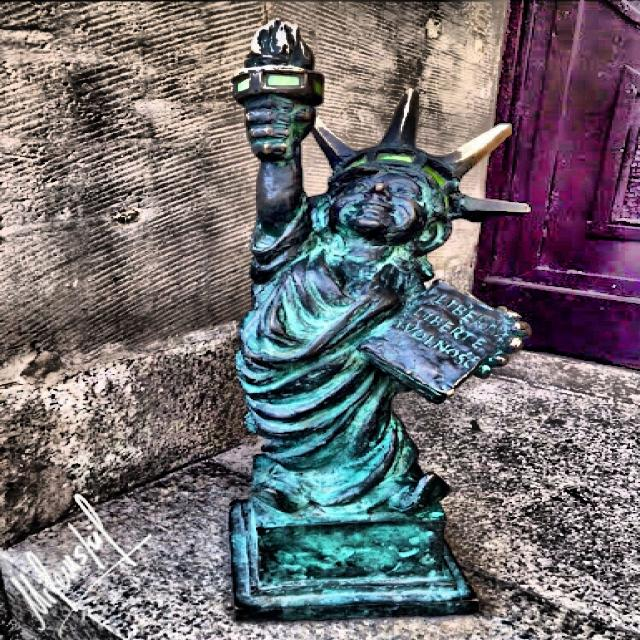LadyWolnosc: (230, 20, 528, 619)
